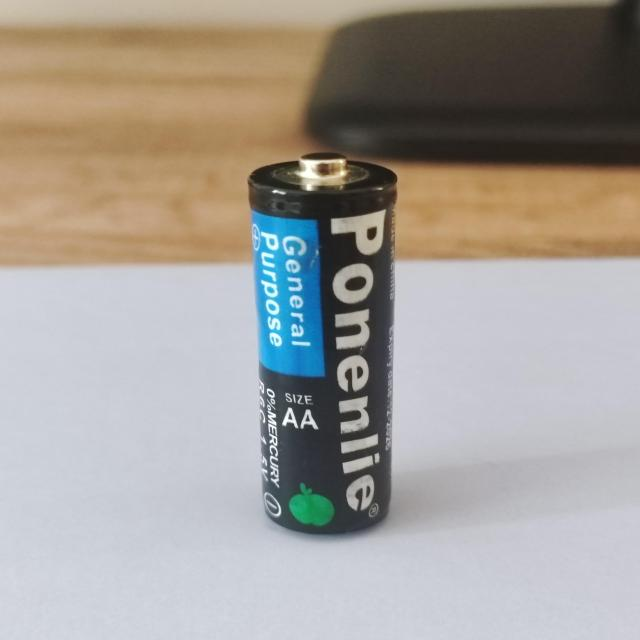AA: (247, 152, 398, 534)
